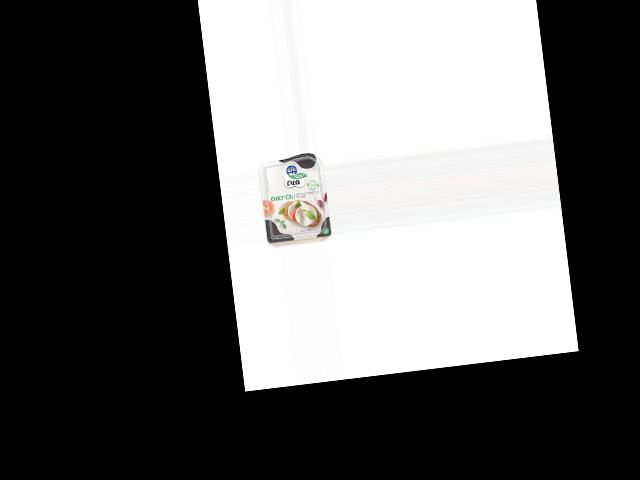cheese: (256, 152, 331, 244)
